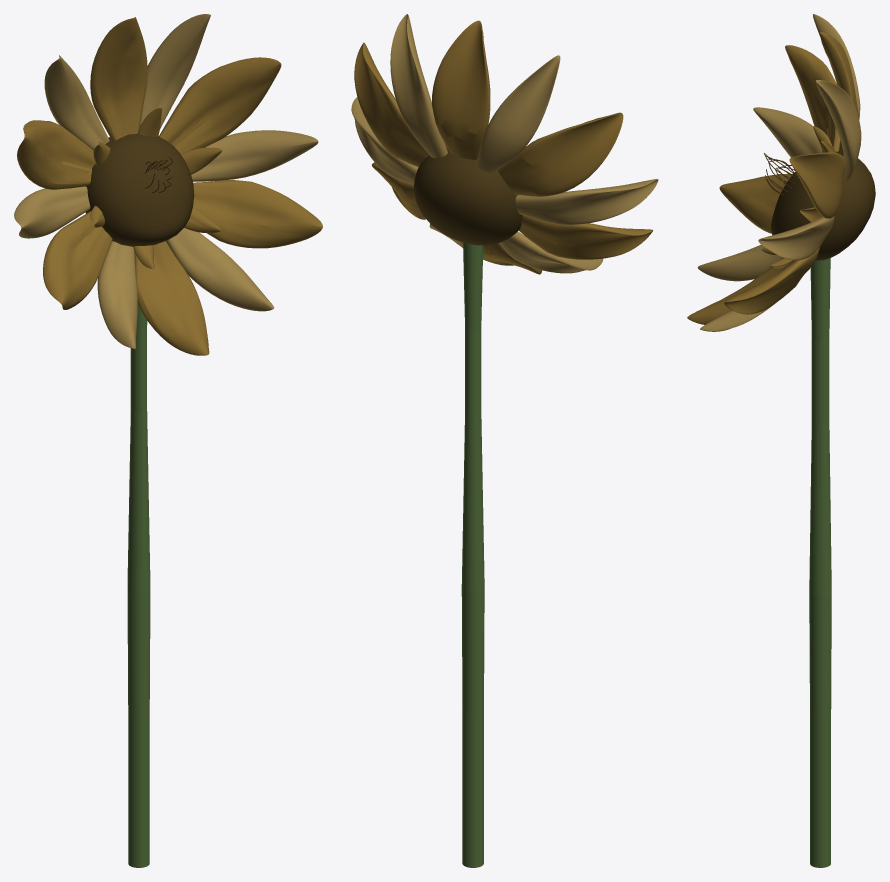
File: sunflower1.fbx
3 renders of one model, left to right at view 1: azimuth 30°, elevation 25°; view 2: azimuth 150°, elevation 25°; view 3: azimuth 270°, elevation 25°, orthographic. The views are drawn at different scales.
Parts seen in each view (by area): view 1: Cube.002, Cube, Cylinder, Cube.003, Cube.001; view 2: Cube.002, Cube, Cylinder, Cube.003; view 3: Cylinder, Cube.002, Cube, Cube.003, Cube.001, Plantybit.
Boxes of the visible parts, <box> form: Cube.002: <box>17,17,322,355</box>; Cube: <box>14,14,318,349</box>; Cylinder: <box>127,303,150,867</box>; Cube.003: <box>85,133,194,246</box>; Cube.001: <box>90,108,222,268</box>; Cube.002: <box>354,20,653,274</box>; Cube: <box>351,14,658,273</box>; Cylinder: <box>461,242,484,867</box>; Cube.003: <box>414,149,522,245</box>; Cylinder: <box>809,258,831,867</box>; Cube.002: <box>687,32,859,324</box>; Cube: <box>697,14,861,331</box>; Cube.003: <box>771,151,875,260</box>; Cube.001: <box>761,126,835,268</box>; Plantybit: <box>764,153,797,195</box>.
Size of the model in its own units: 764 by 2066 by 426.
